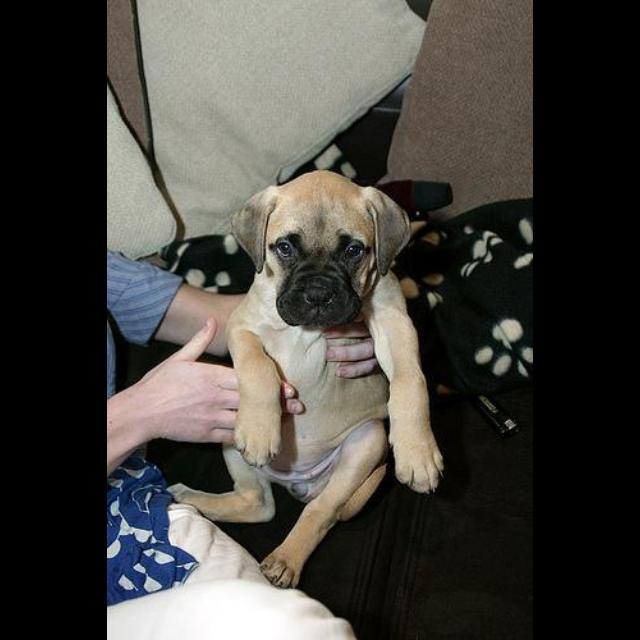bullmastiff: (166, 169, 446, 590)
